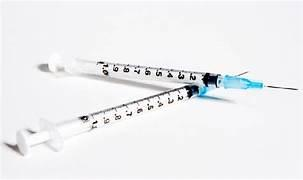Syringe: (16, 85, 205, 154), (48, 55, 296, 89)
